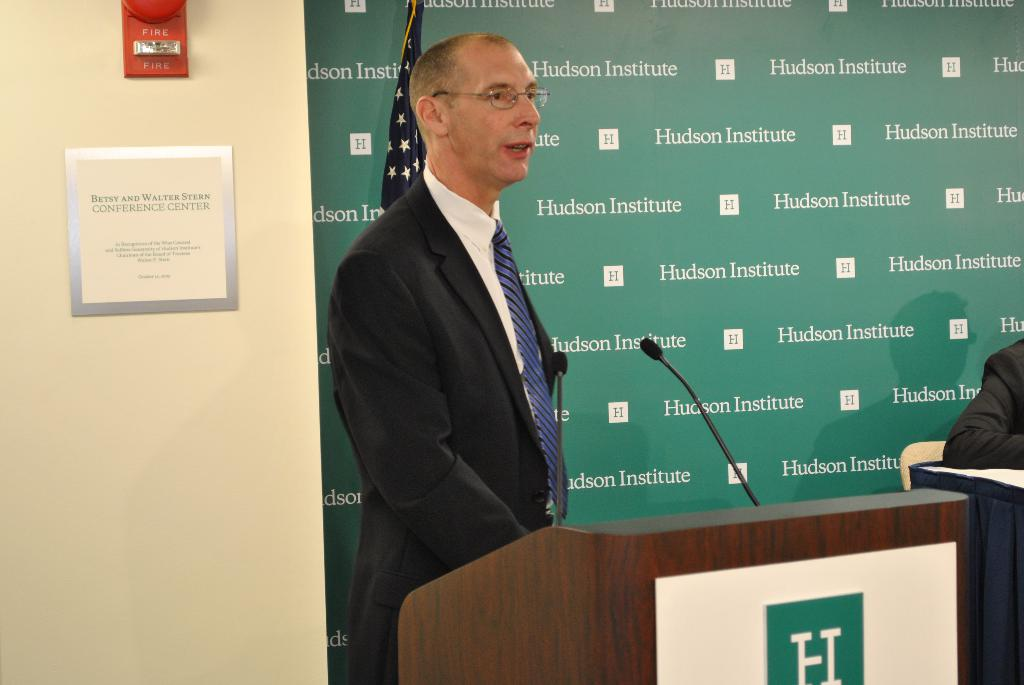Human-face: (440, 46, 538, 182)
